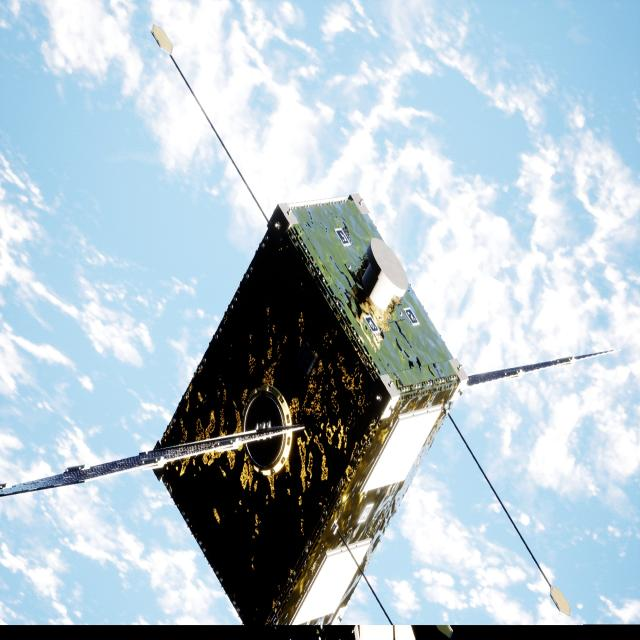satellite: (0, 195, 599, 627)
